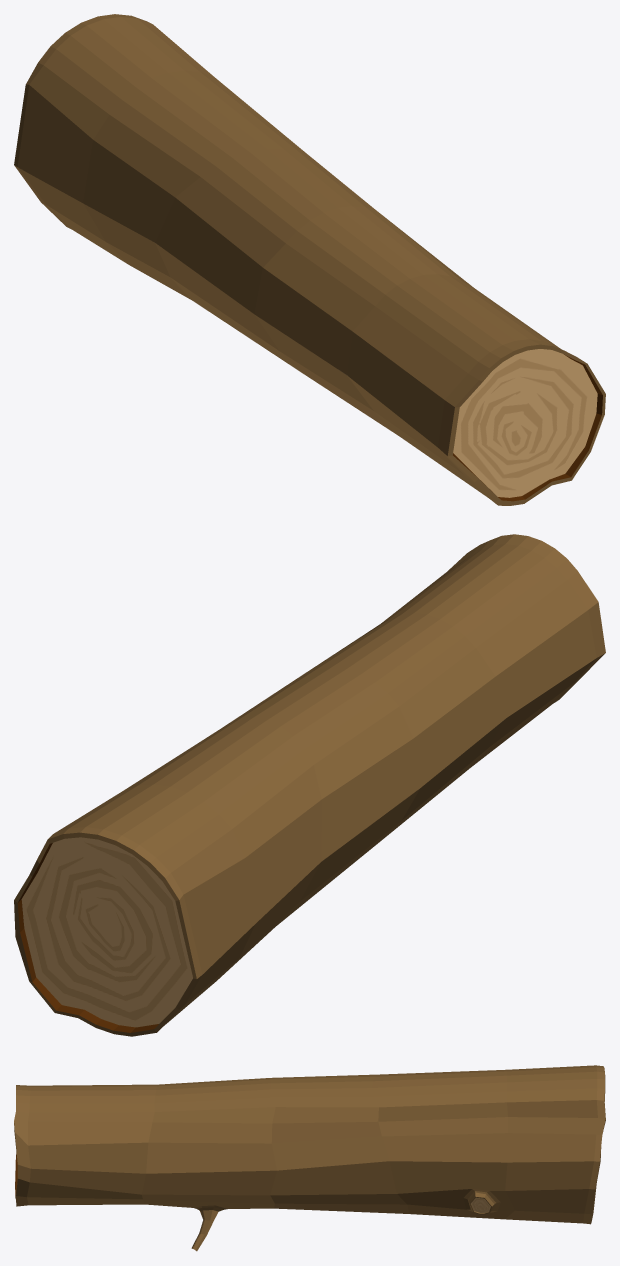
The model's file is wood.fbx.
The picture shows the model from 3 angles, top to bottom: view 1: azimuth 30°, elevation 25°; view 2: azimuth 150°, elevation 25°; view 3: azimuth 270°, elevation 25°; orthographic projection. The views are drawn at different scales.
Visible parts, largest first — view 1: 円; view 2: 円; view 3: 円.
Boxes of the visible parts, x1=… form: 円: x1=14, y1=14, x2=605, y2=505; 円: x1=14, y1=534, x2=605, y2=1036; 円: x1=14, y1=1065, x2=605, y2=1251.
Bounding box in the file's own units: 166 × 198 × 688.
